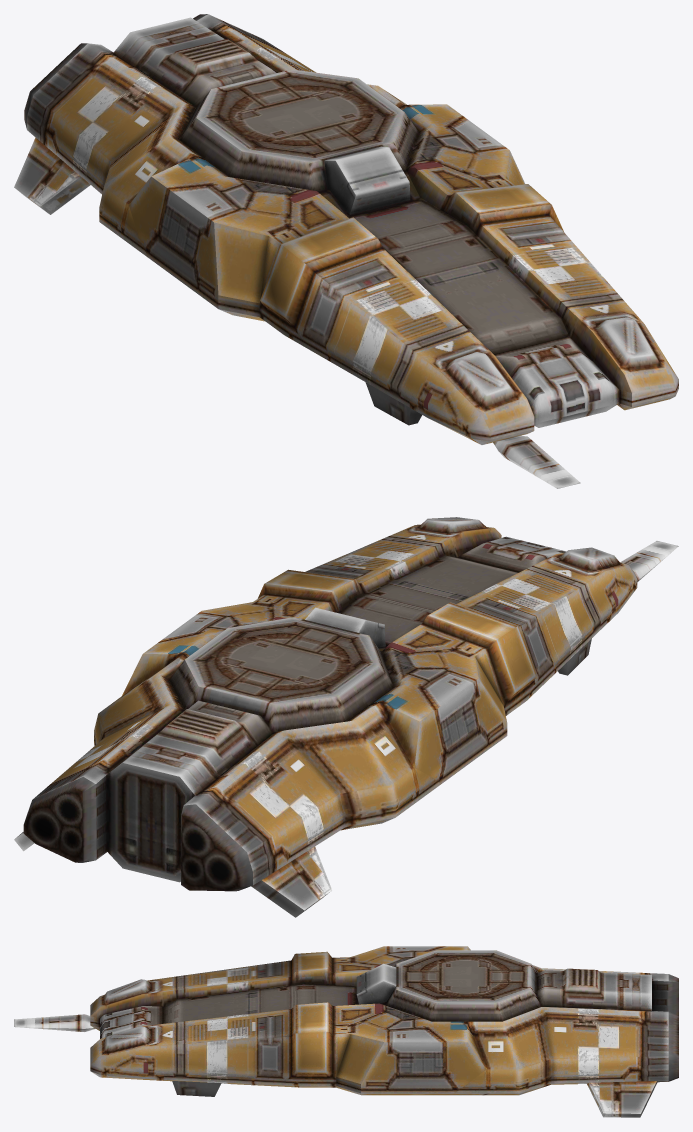
The model's file is hgn_sc_targ_01.glb.
3 views of the same model, one above another, from view 1: azimuth 30°, elevation 25°; view 2: azimuth 150°, elevation 25°; view 3: azimuth 270°, elevation 25° (orthographic). The views are drawn at different scales.
Visible parts, largest first — view 1: hgn_assault_corvette_01_LOD0; view 2: hgn_assault_corvette_01_LOD0; view 3: hgn_assault_corvette_01_LOD0.
Part boxes in pixels (<box>): hgn_assault_corvette_01_LOD0: <box>14,14,678,488</box>; hgn_assault_corvette_01_LOD0: <box>14,517,678,917</box>; hgn_assault_corvette_01_LOD0: <box>14,946,678,1117</box>.
Size of what is drawn, in the model's own units: 0.2437 by 0.1069 by 0.6561.
Materials: 1 (1 with a texture image).
